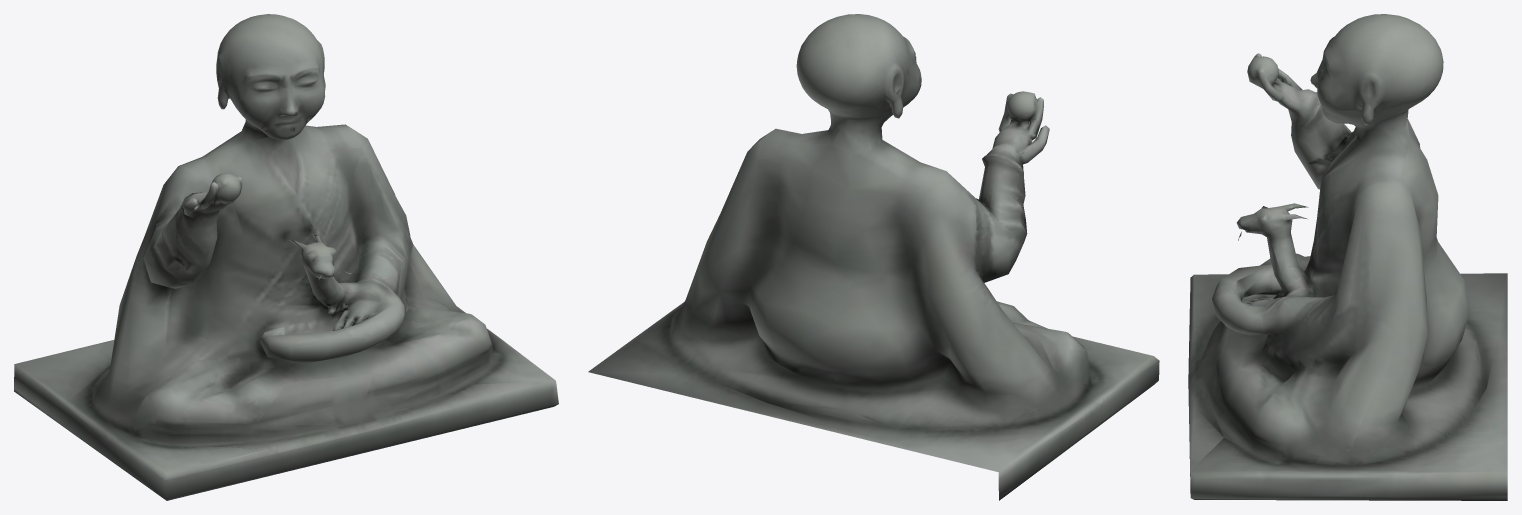
The model's file is arhat_long.glb.
3 views of the same model, side by side, from view 1: azimuth 30°, elevation 25°; view 2: azimuth 150°, elevation 25°; view 3: azimuth 270°, elevation 25° (orthographic). The views are drawn at different scales.
Visible parts, largest first — view 1: arhat_long; view 2: arhat_long; view 3: arhat_long.
Part boxes in pixels (x1,y1,x2,y2): arhat_long: (14,14,558,500); arhat_long: (588,14,1159,500); arhat_long: (1188,14,1507,500).
Size of the model in its own units: 1.21 by 1.07 by 0.808.
1 material, 1 textured.
